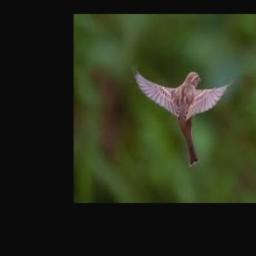Sparrow: (132, 65, 236, 167)
